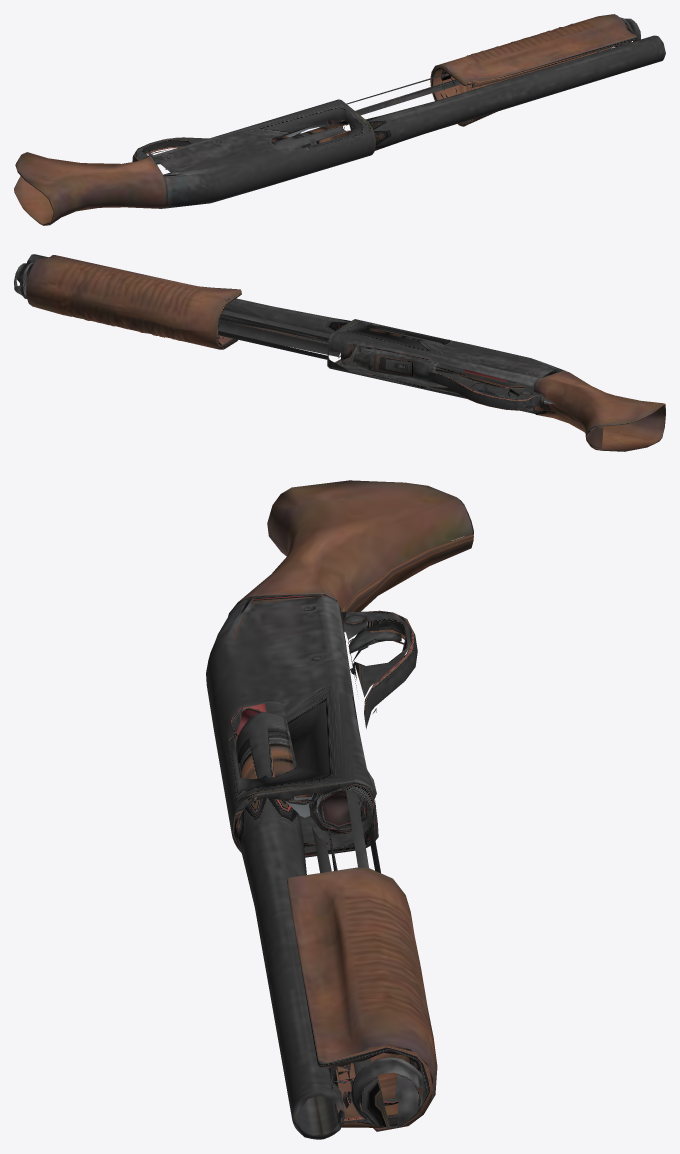
The model's file is w_sawedoff.glb.
3 renders of one model, top to bottom at view 1: azimuth 30°, elevation 25°; view 2: azimuth 150°, elevation 25°; view 3: azimuth 270°, elevation 25°, orthographic. The views are drawn at different scales.
Parts seen in each view (by area): view 1: w_sawedoff; view 2: w_sawedoff; view 3: w_sawedoff.
Part boxes in pixels (x1=…): w_sawedoff: x1=14, y1=14, x2=665, y2=225; w_sawedoff: x1=14, y1=254, x2=665, y2=451; w_sawedoff: x1=206, y1=480, x2=473, y2=1139.
Size of the model in its own units: 0.8592 by 0.0712 by 0.1597.
2 materials, 1 textured.
